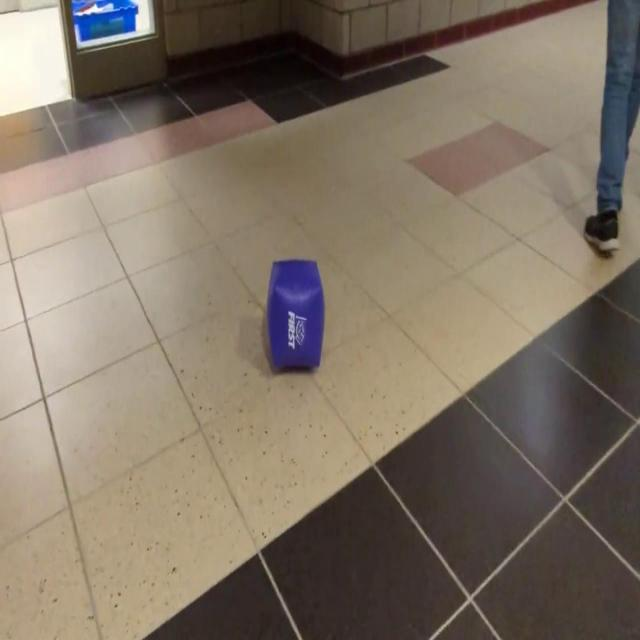frc_cube: (265, 257, 323, 369)
